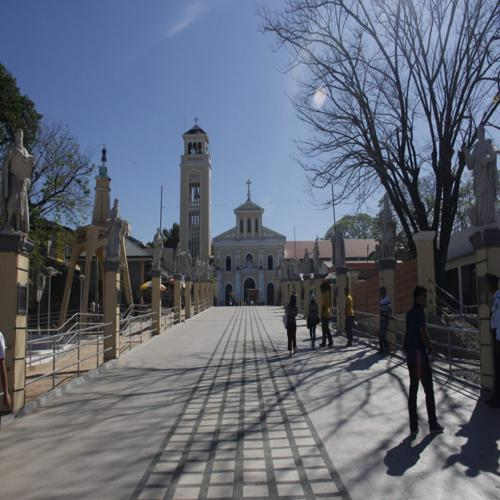Manaoag Church: (171, 116, 287, 307)
